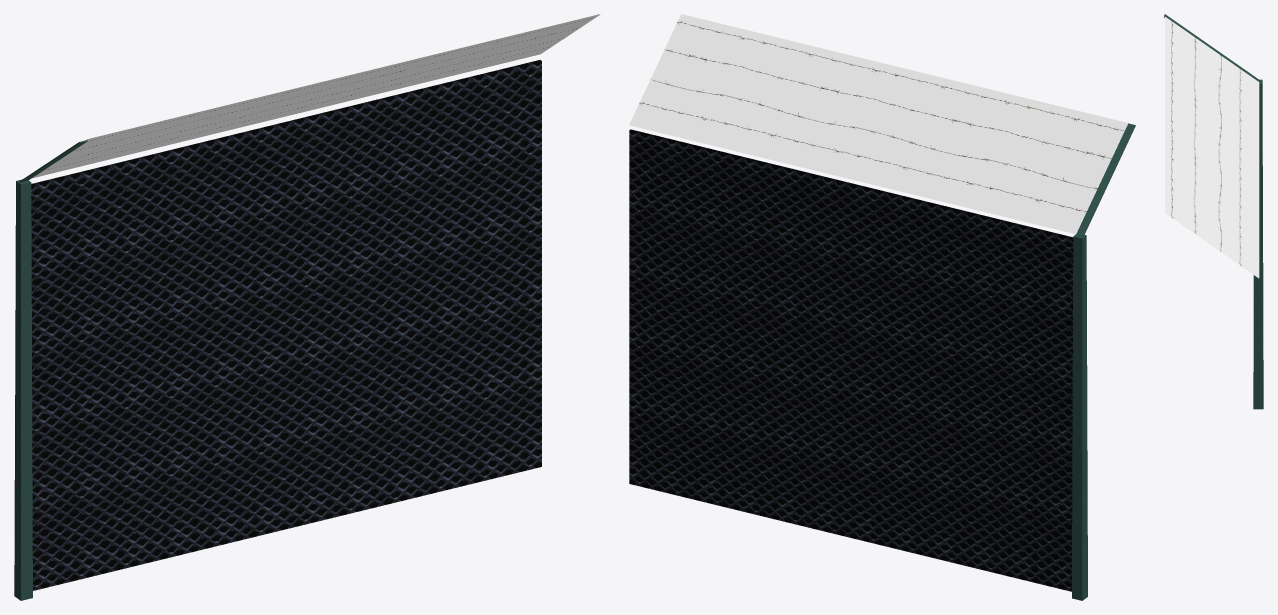
File: weilan.FBX
The picture shows the model from 3 angles, left to right: view 1: azimuth 30°, elevation 25°; view 2: azimuth 150°, elevation 25°; view 3: azimuth 270°, elevation 25°; orthographic projection. The views are drawn at different scales.
Visible parts, largest first — view 1: Box001; view 2: Box001; view 3: Box001.
Boxes of the visible parts, x1,y1,x2,y2 form: Box001: (14, 14, 600, 600); Box001: (629, 14, 1135, 600); Box001: (1164, 14, 1263, 409).
Bounding box in the file's own units: 351 × 321 × 73.69.
